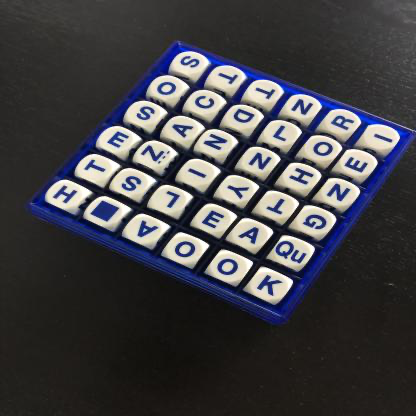a: (127, 213, 167, 245), (232, 223, 269, 247), (165, 119, 198, 141)
c: (189, 90, 220, 115)
d: (225, 106, 261, 131)
e: (197, 205, 235, 233), (341, 151, 375, 177), (103, 128, 134, 153)
g: (297, 211, 331, 236)
h: (48, 181, 85, 210), (284, 165, 319, 191)
i: (178, 159, 215, 187), (362, 127, 399, 150)
k: (252, 270, 290, 299)
l: (153, 186, 191, 216), (263, 122, 300, 148)
n: (322, 179, 358, 205), (241, 150, 278, 175), (199, 129, 232, 156), (285, 96, 319, 119)
o: (208, 253, 250, 282), (170, 234, 205, 264), (303, 136, 340, 162), (155, 78, 187, 103)
qu: (272, 241, 311, 266)
r: (319, 108, 360, 136)
s: (116, 172, 150, 198), (175, 54, 207, 77), (129, 104, 161, 126)
t: (211, 67, 244, 94), (77, 158, 114, 182), (261, 193, 295, 218), (246, 81, 282, 104)
wild: (87, 200, 125, 228)
y: (219, 176, 256, 203)
z: (137, 144, 173, 168)
